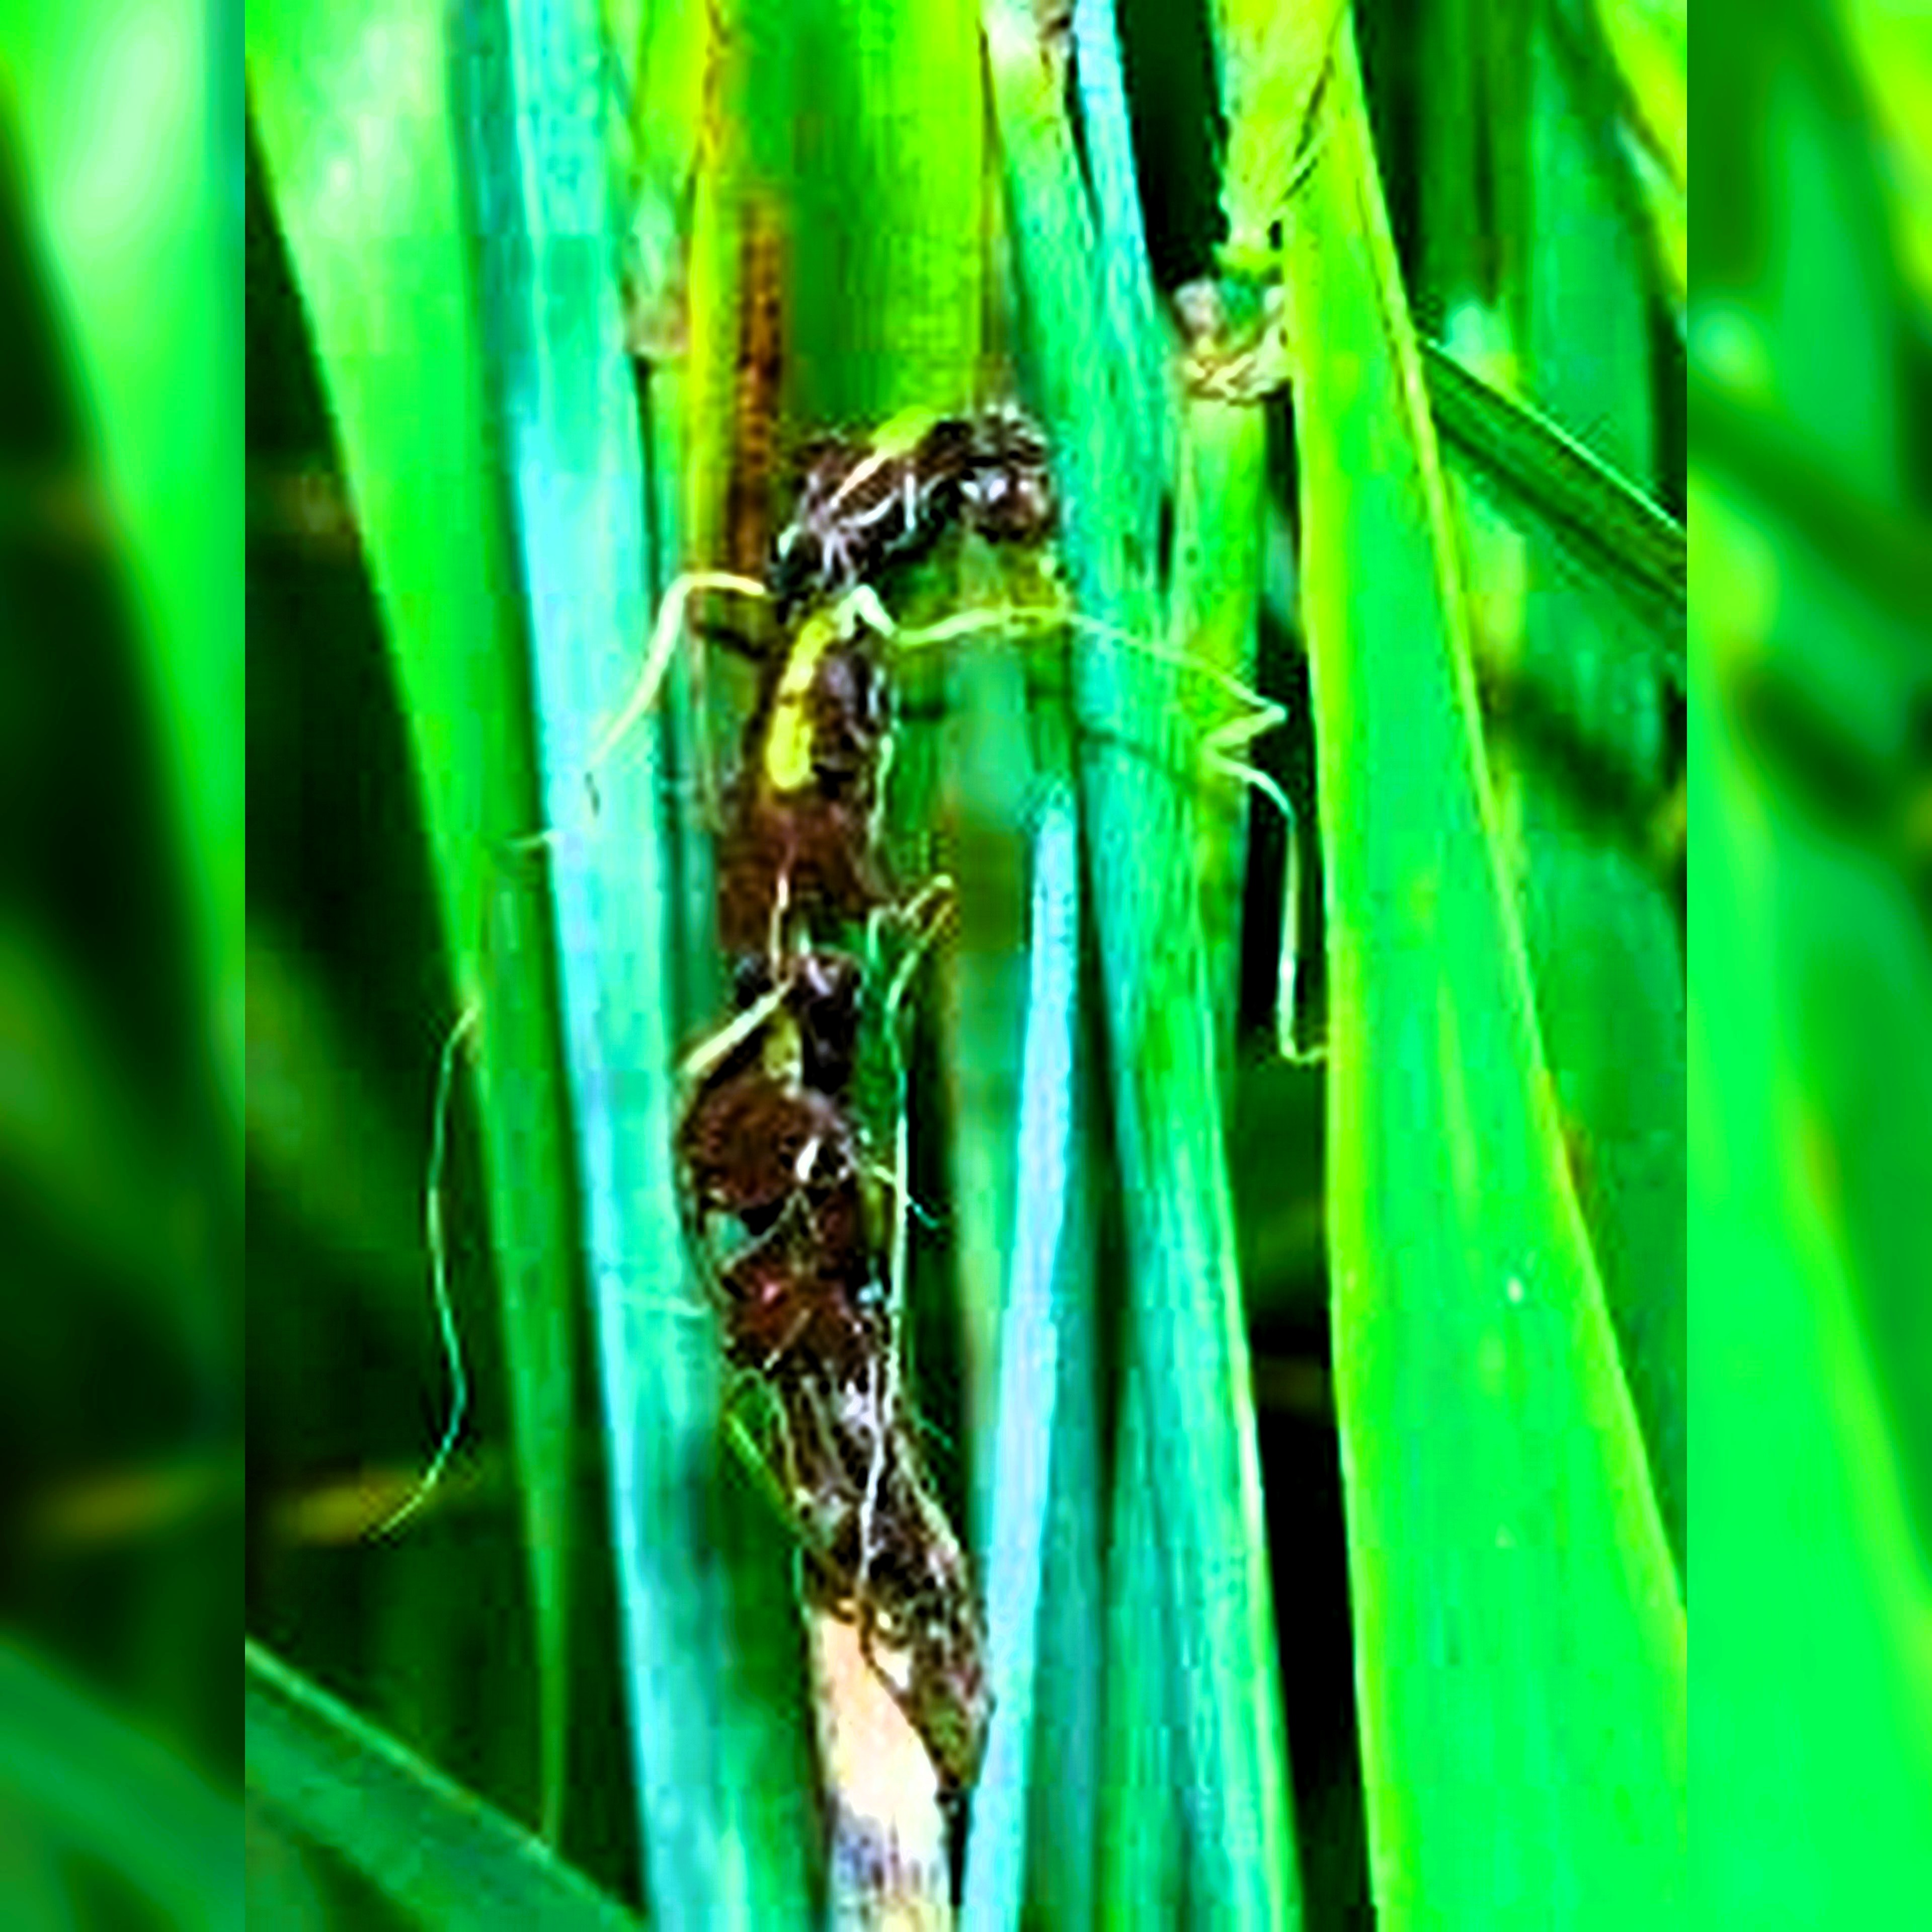Wheat Loose Smut: (609, 403, 1012, 1592)
